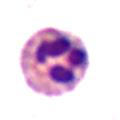neutrophil: (19, 26, 91, 97)
